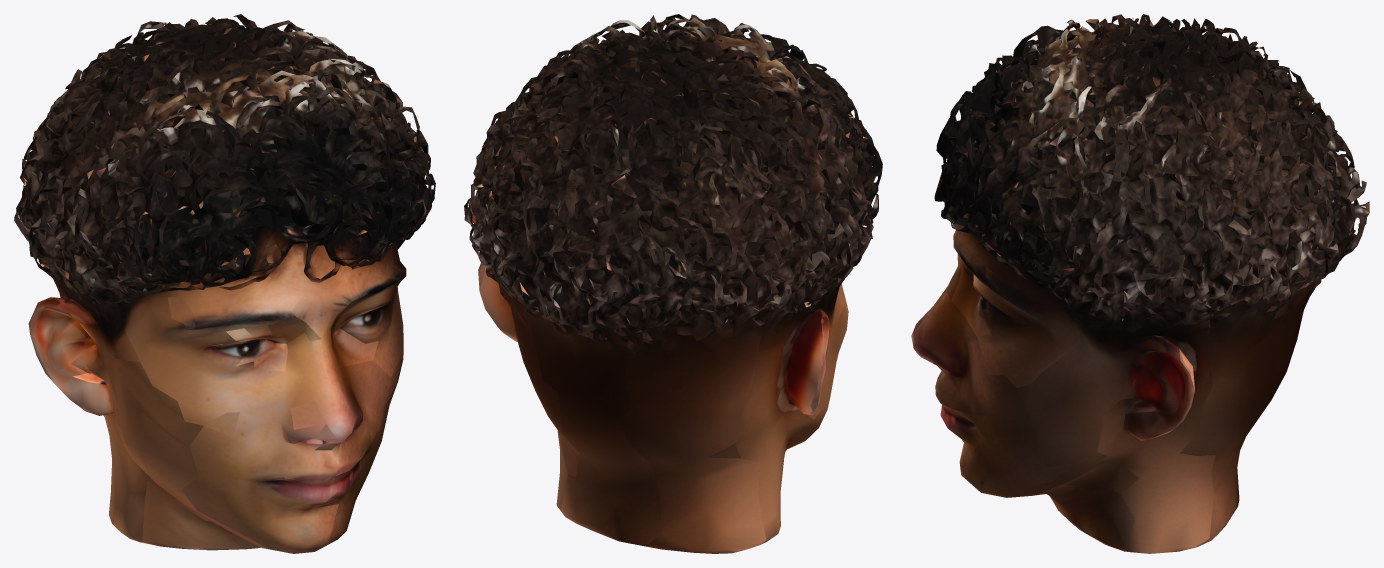
Rendered from WEAM2.glb.
The picture shows the model from 3 angles, left to right: view 1: azimuth 30°, elevation 25°; view 2: azimuth 150°, elevation 25°; view 3: azimuth 270°, elevation 25°; orthographic projection.
Visible parts, largest first — view 1: tmpnvjn_kg_.ply; view 2: tmpnvjn_kg_.ply; view 3: tmpnvjn_kg_.ply.
Boxes of the visible parts, left/top/right/bottom form: tmpnvjn_kg_.ply: left=14, top=14, right=435, bottom=553; tmpnvjn_kg_.ply: left=464, top=14, right=882, bottom=553; tmpnvjn_kg_.ply: left=911, top=14, right=1369, bottom=553.
Bounding box in the file's own units: 1.56 × 1.96 × 1.75.
Materials: 1 (1 with a texture image).
